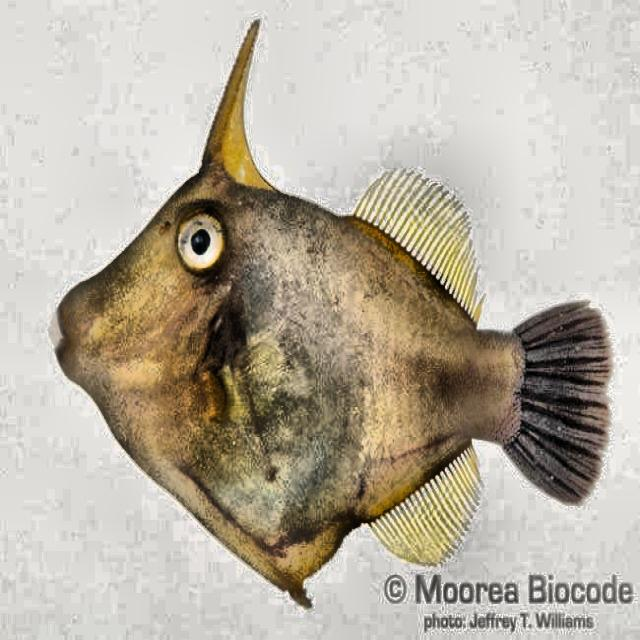fish: (47, 17, 614, 609)
